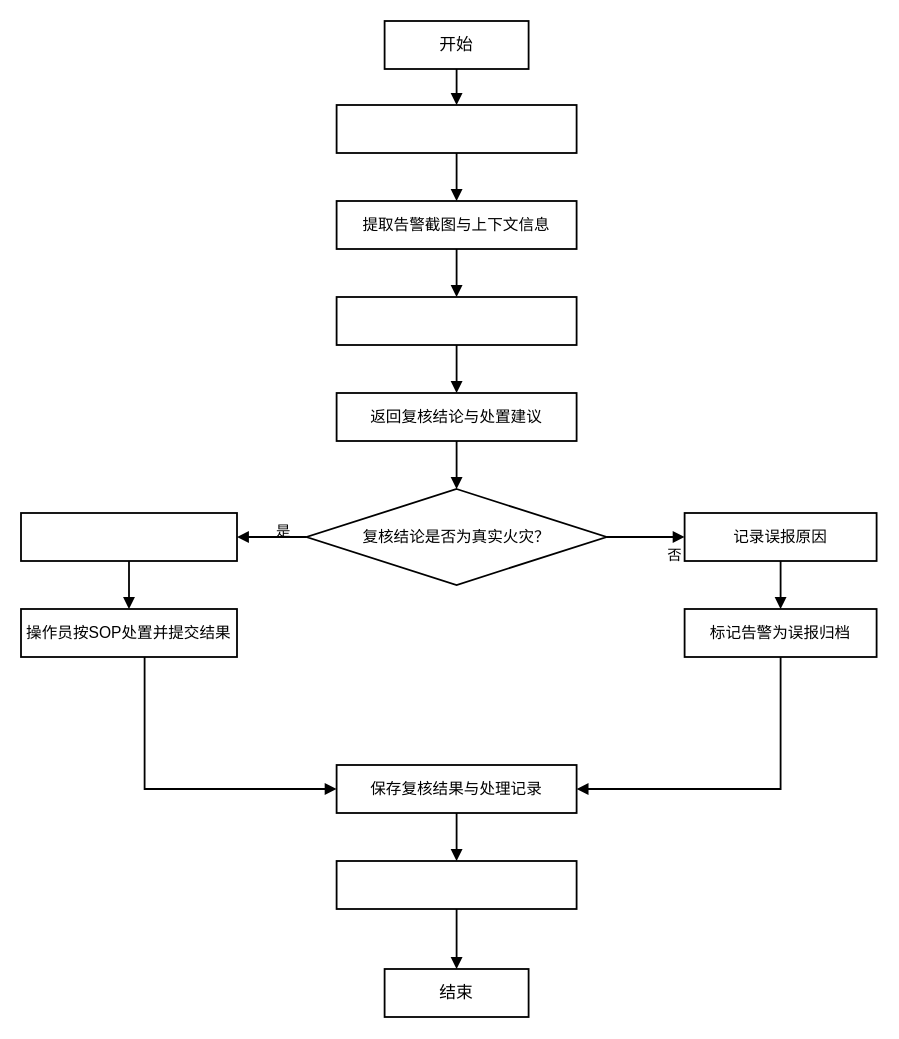
Image size: 899x1039. Some labels were removed from this diagram. The centre of each missing label's shape, as x and y in pixels:
写入历史告警库: [456,884]
接收YOLO中置信度结果: [456,128]
生成正式告警并推送前端: [128,536]
调用多模态LLM进行复核: [456,320]
